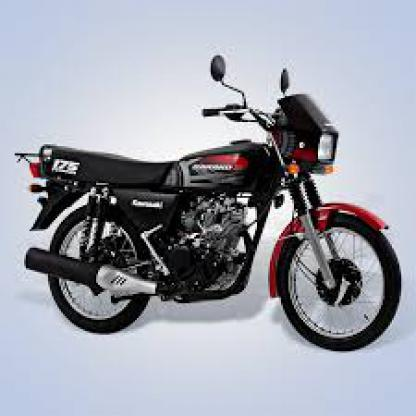Motorcycle: (15, 55, 412, 361)
